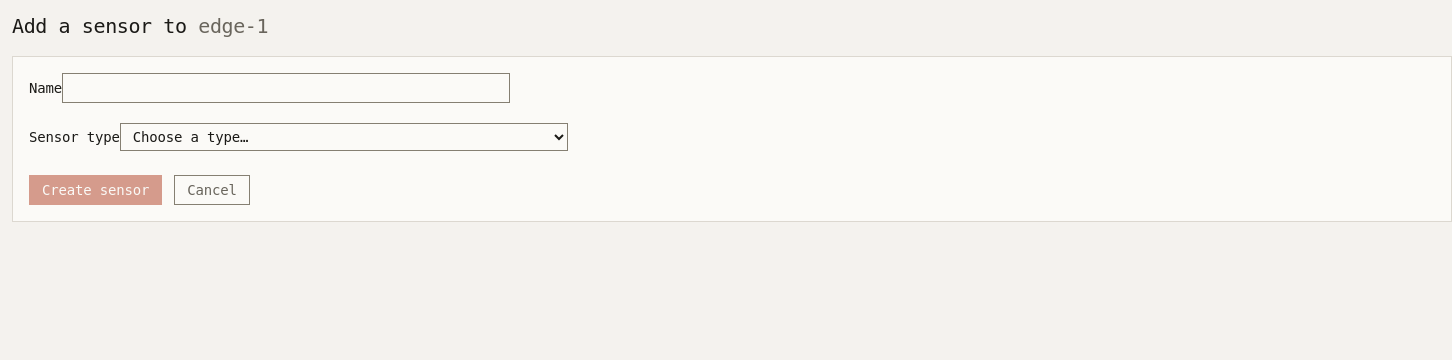
Test case: the add-sensor form on a probe whose flow collector is off › says so under the type, in text the field is described by
The image size is (1452, 360).
Select "flow.netflow — Flow" in the dropdown labelled "Sensor type" at (344, 137), box x1=120 y1=123 x2=568 y2=151
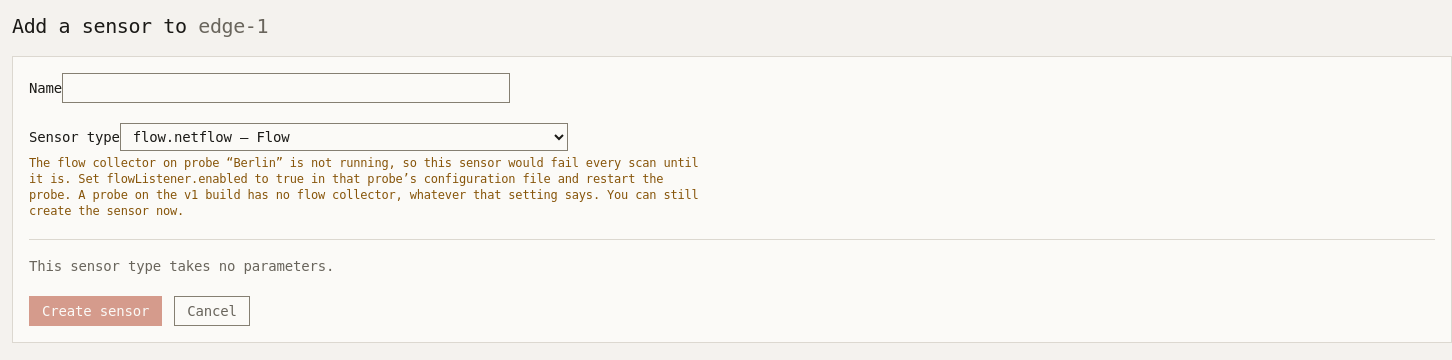
Now the message with id "sensor-type-listener" shows "The flow collector on probe “Berlin” is not running", box x1=29 y1=156 x2=699 y2=218
Now the message with id "sensor-type-listener" shows "flowListener.enabled", box x1=29 y1=156 x2=699 y2=218
Type "Uplink flows" into the field labelled "Name" at (286, 88), box x1=62 y1=73 x2=510 y2=103
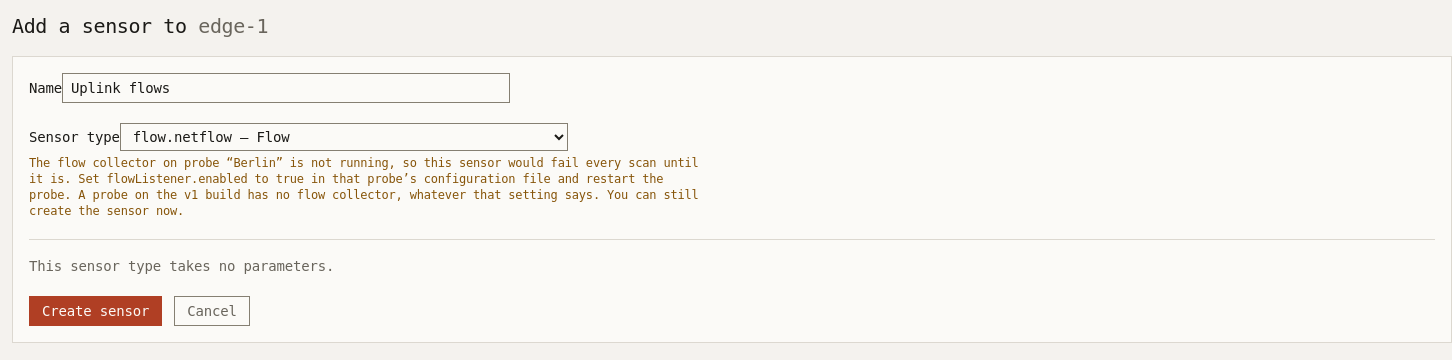
Now the button "Create sensor" is enabled, box x1=29 y1=296 x2=162 y2=326
